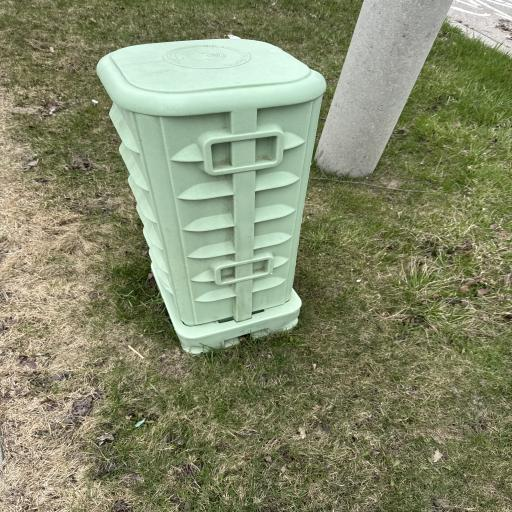Electrical Box: (94, 37, 332, 350)
